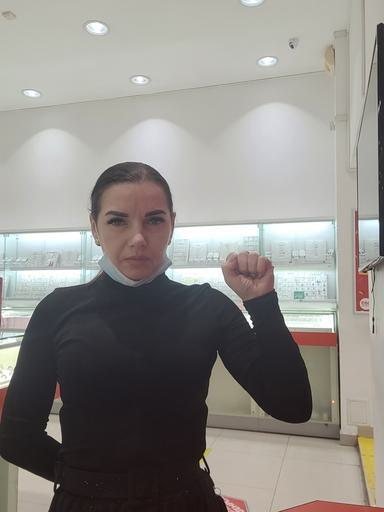fist: (218, 250, 278, 300)
